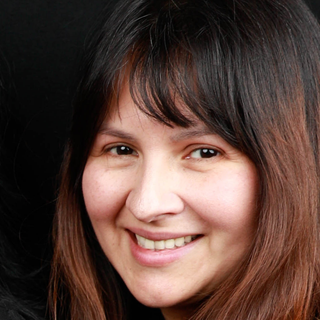eye: (181, 140, 229, 165), (100, 139, 142, 164)
